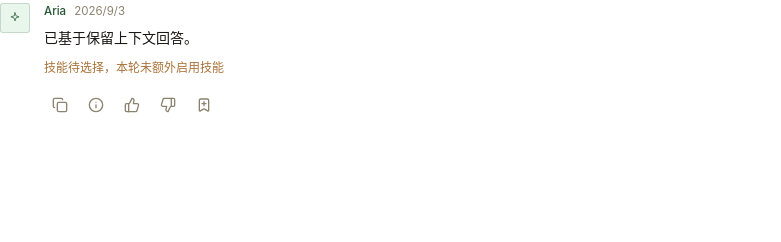
Test: ProjectChatMessage › distinguishes loaded, retained, summarized, and truncated conversation history
This screenshot has width=781, height=242.
Click the button named "查看回答详情" at x=96, y=105, box [80,89,112,121]
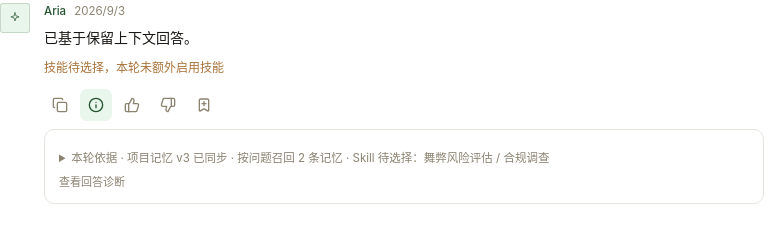
Click the heading "本轮依据" at x=310, y=158, box [71,151,550,165]
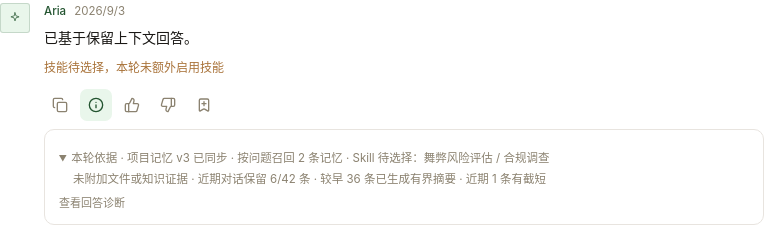
expect the text "未附加文件或知识证据 · 近期对话保留 6/42 条 · 较早 36 条已生成有界摘要 · 近期 1 条有截短" is shown: met, box [73,172,546,186]
